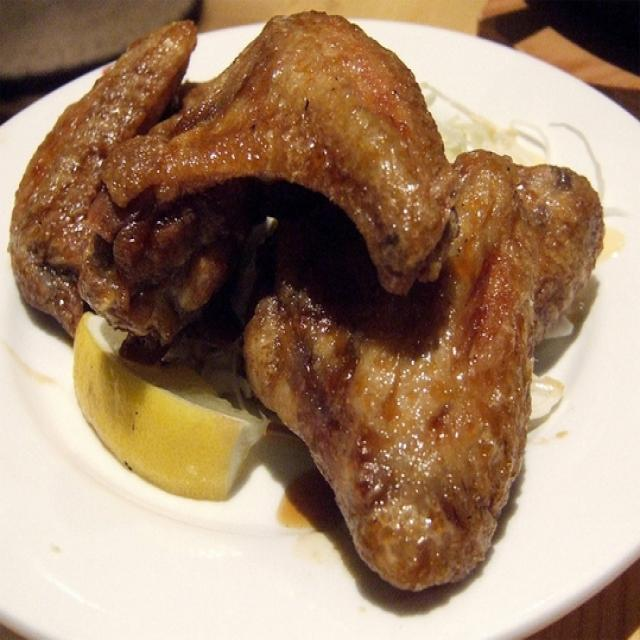Deep fried chicken wing: (23, 25, 611, 574)
Lemon: (63, 318, 271, 512)
